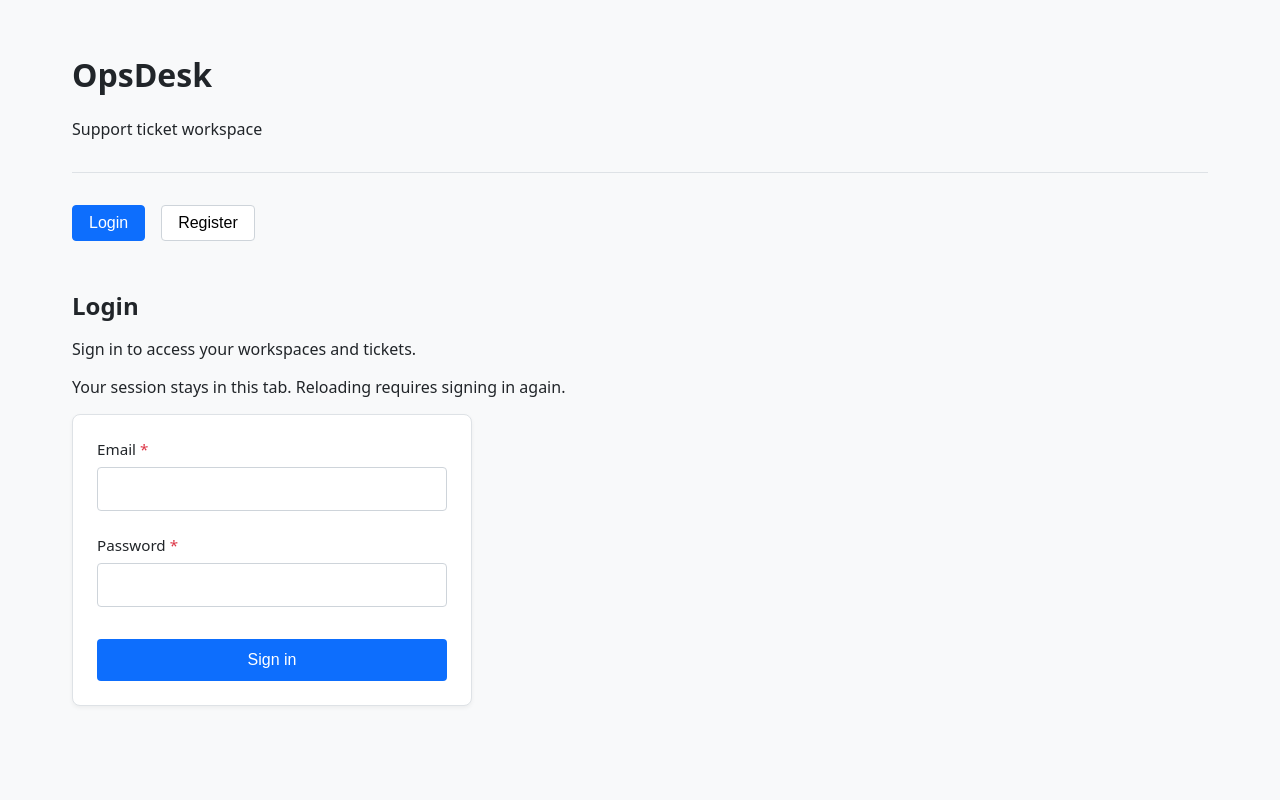
Test: clears session when user profile becomes inactive during check
Click the button "Login": [109, 223] box [72,205,145,241]
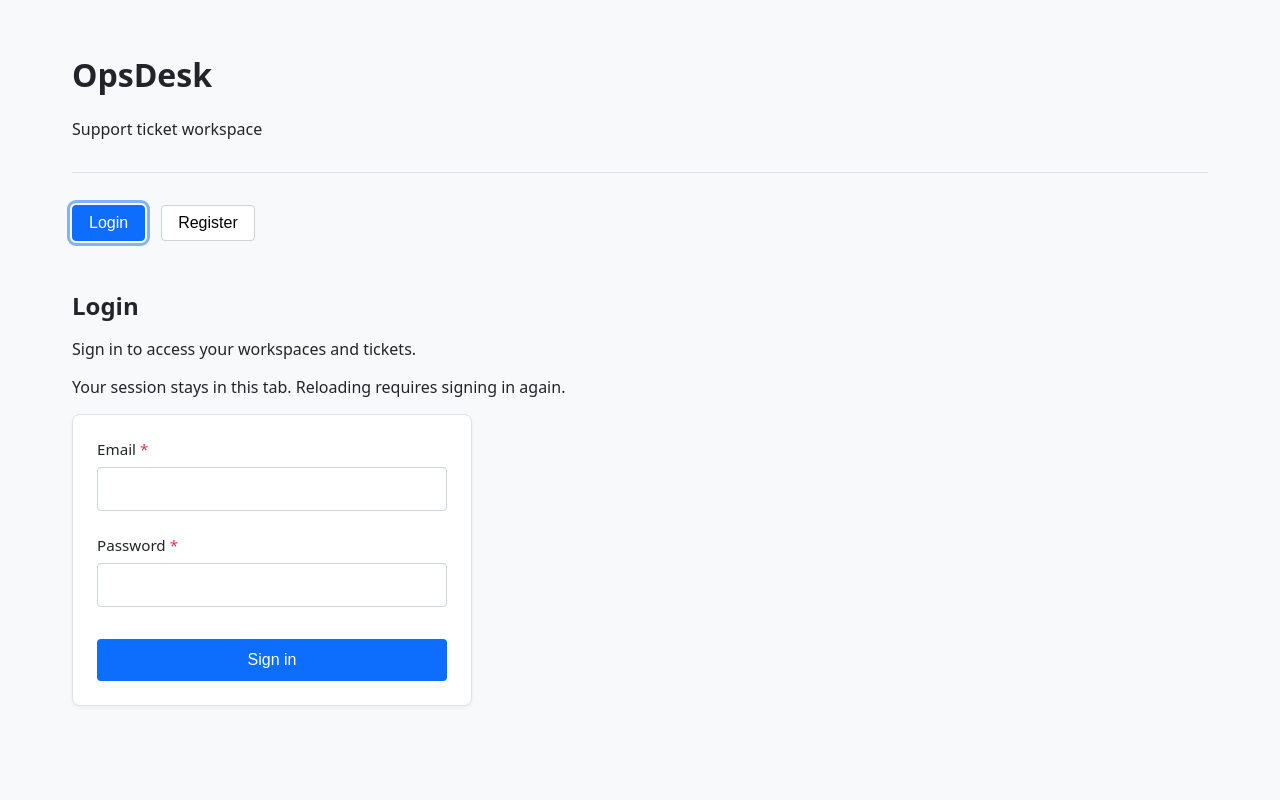
In the field labelled "Email *": [272, 489] box [97,467,447,511], type "operator@example.com"
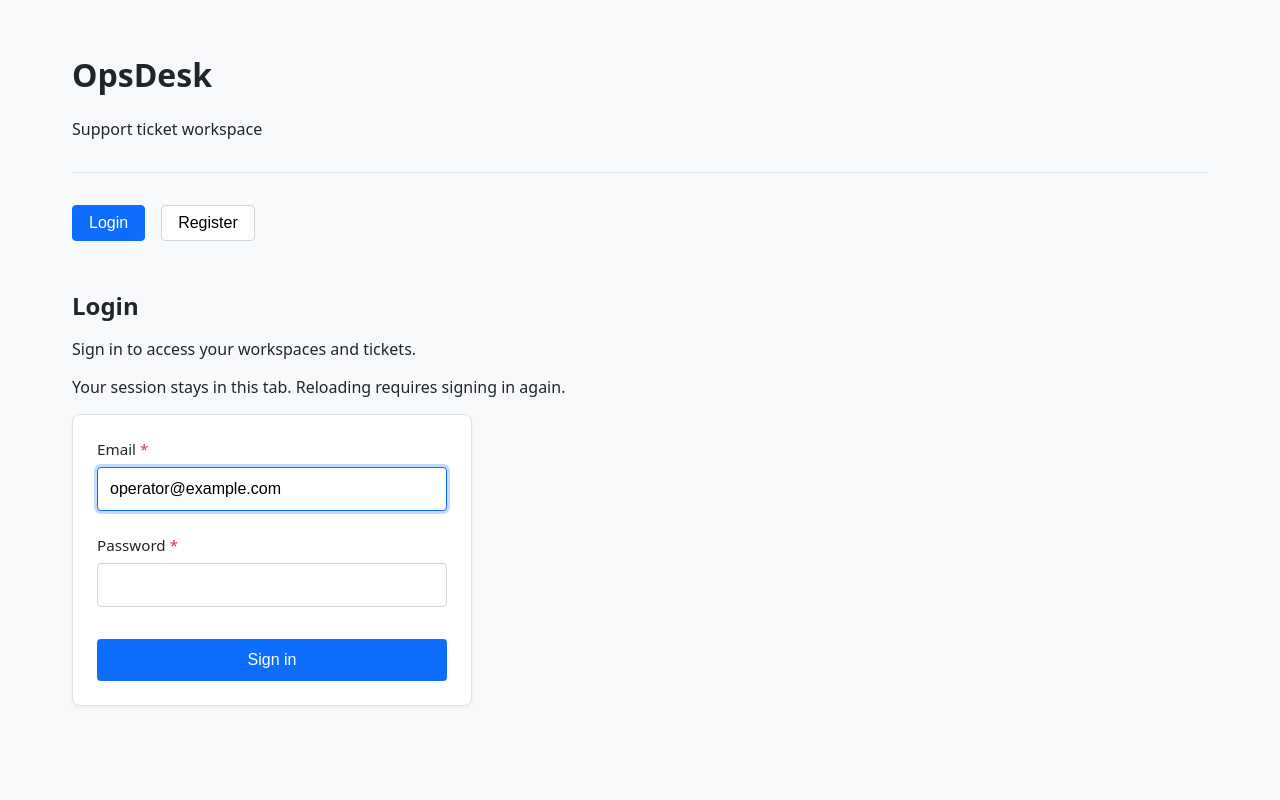
In the password field labelled "Password *": [272, 585] box [97,563,447,607], type "validPassword123"
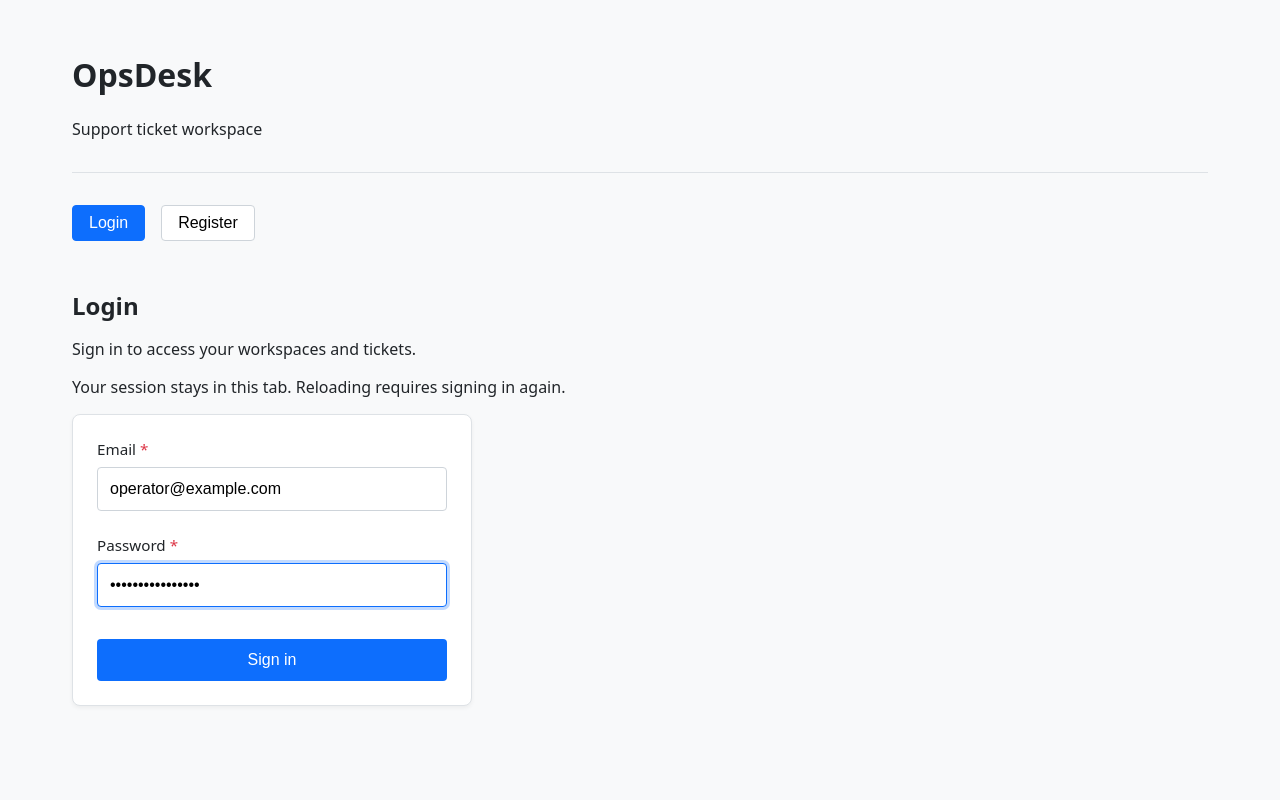
Click the button "Sign in": [272, 660] box [97,639,447,681]
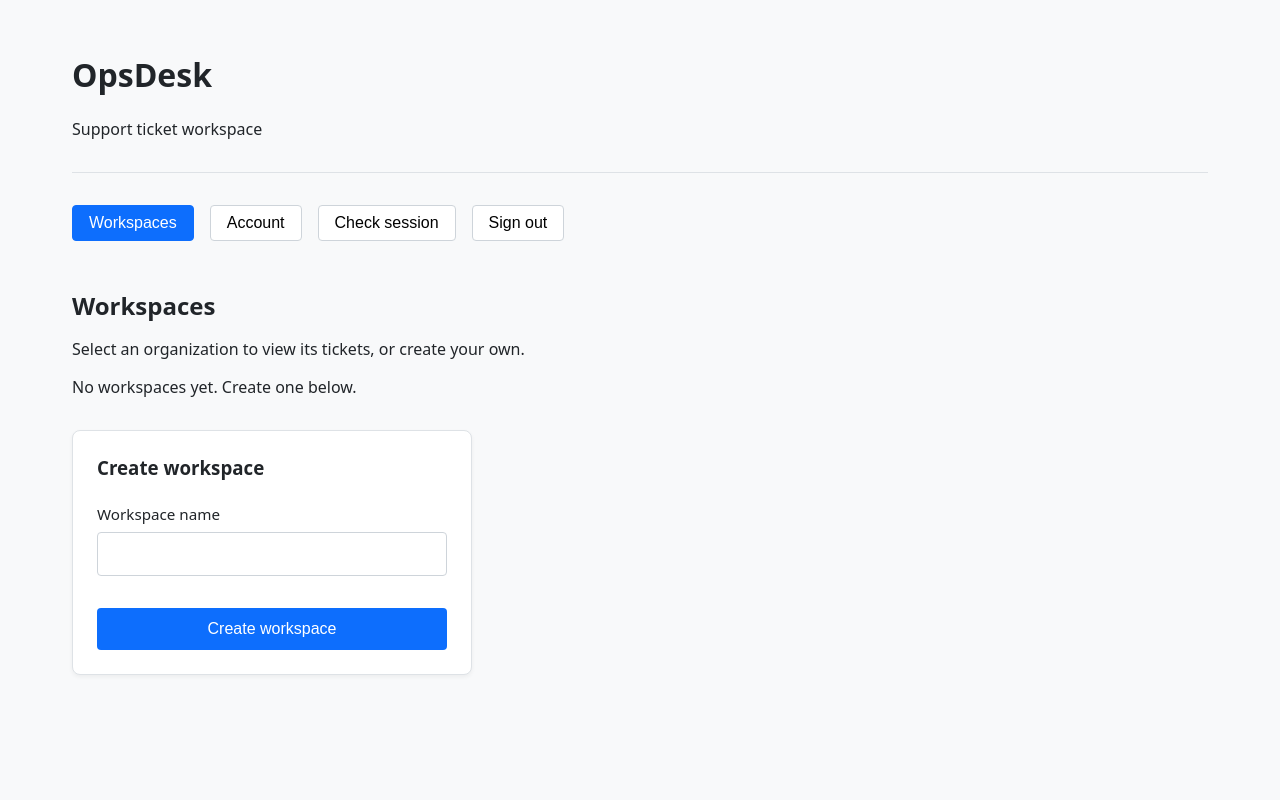
expect the heading "Workspaces" is shown: met, box [72,289,215,322]
Click the button "Account": [256, 223] box [210,205,302,241]
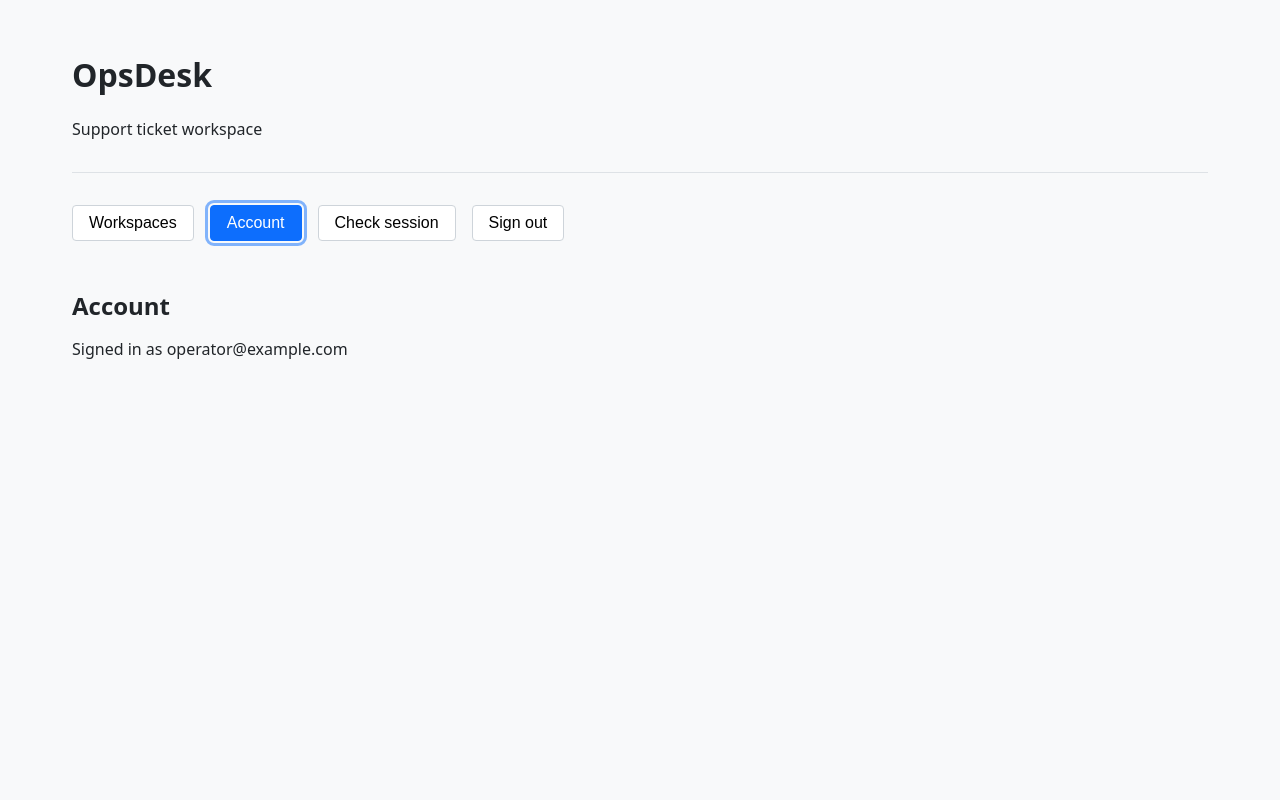
expect the message "Signed in as operator@example.com" is shown: met, box [72,338,348,360]
Click the button "Check session": [386, 223] box [318,205,456,241]
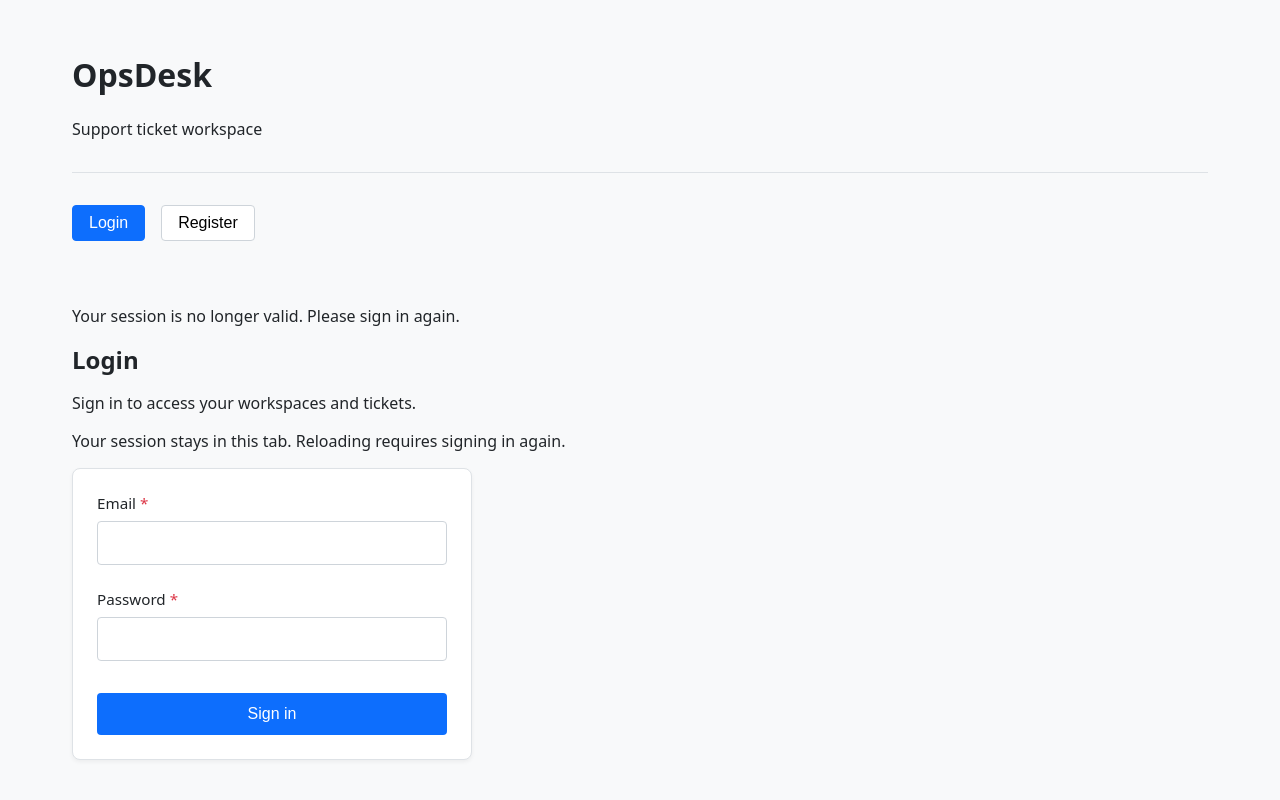
expect the heading "Login" is shown: met, box [72,343,139,376]
expect the message reads "Your session is no longer valid. Please sign in again.": met, box [72,305,460,327]
expect the button "Sign out" is gone: met
